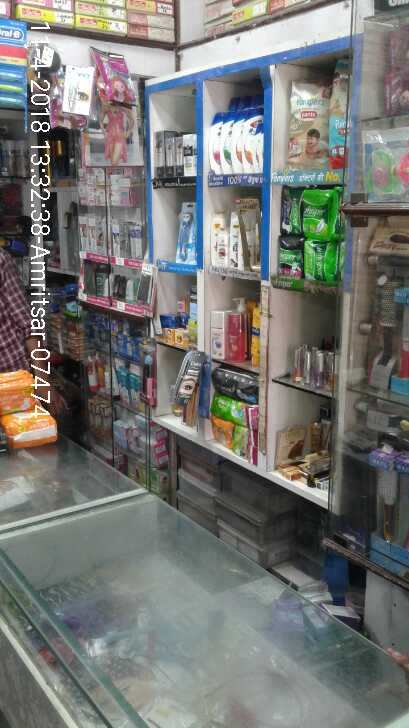venus: (176, 202, 195, 261)
